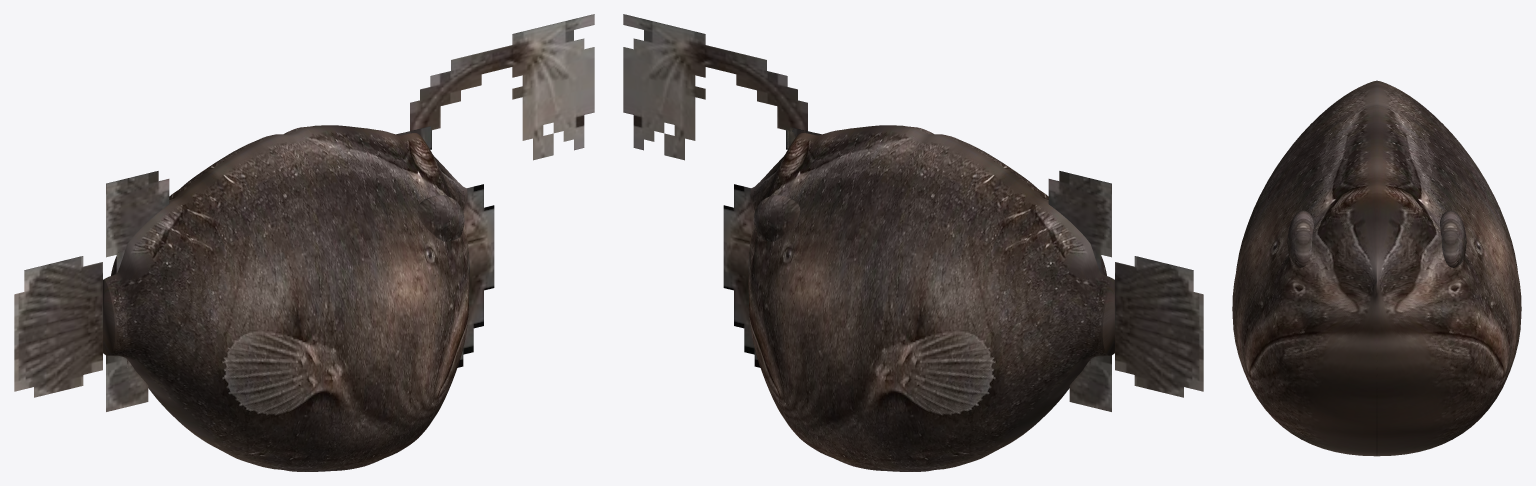
File: real-himantolophus_groenlandicus.glb
3 views of the same model, side by side, from view 1: azimuth 30°, elevation 25°; view 2: azimuth 150°, elevation 25°; view 3: azimuth 270°, elevation 25° (orthographic).
Visible parts, largest first — view 1: himantolophus_groenlandicus; view 2: himantolophus_groenlandicus; view 3: himantolophus_groenlandicus.
Part boxes in pixels (x1,y1,x2,y2): himantolophus_groenlandicus: (14, 14, 594, 471); himantolophus_groenlandicus: (623, 14, 1203, 471); himantolophus_groenlandicus: (1232, 80, 1521, 456).
Bounding box in the file's own units: 0.0402 × 0.0248 × 0.0174.
Materials: 1 (1 with a texture image).
